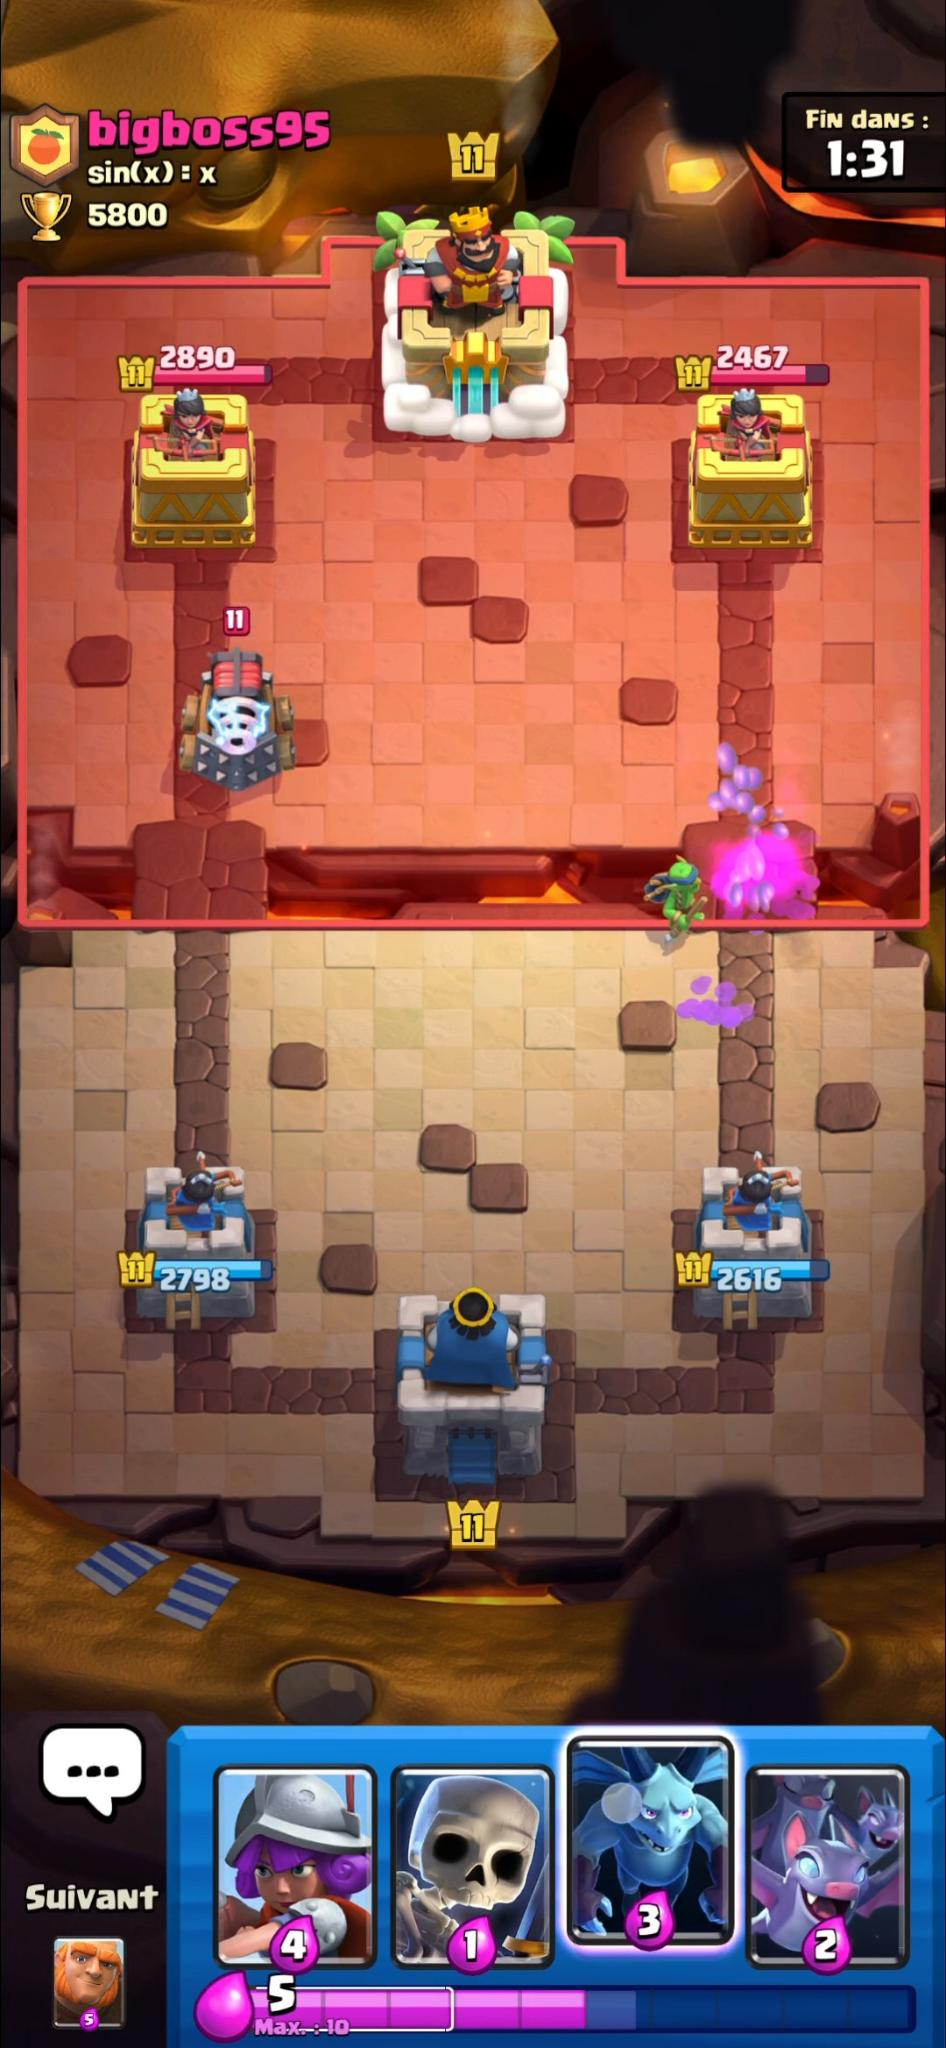gobelin_lances: (643, 858, 708, 940)
zappy: (182, 649, 301, 794)
